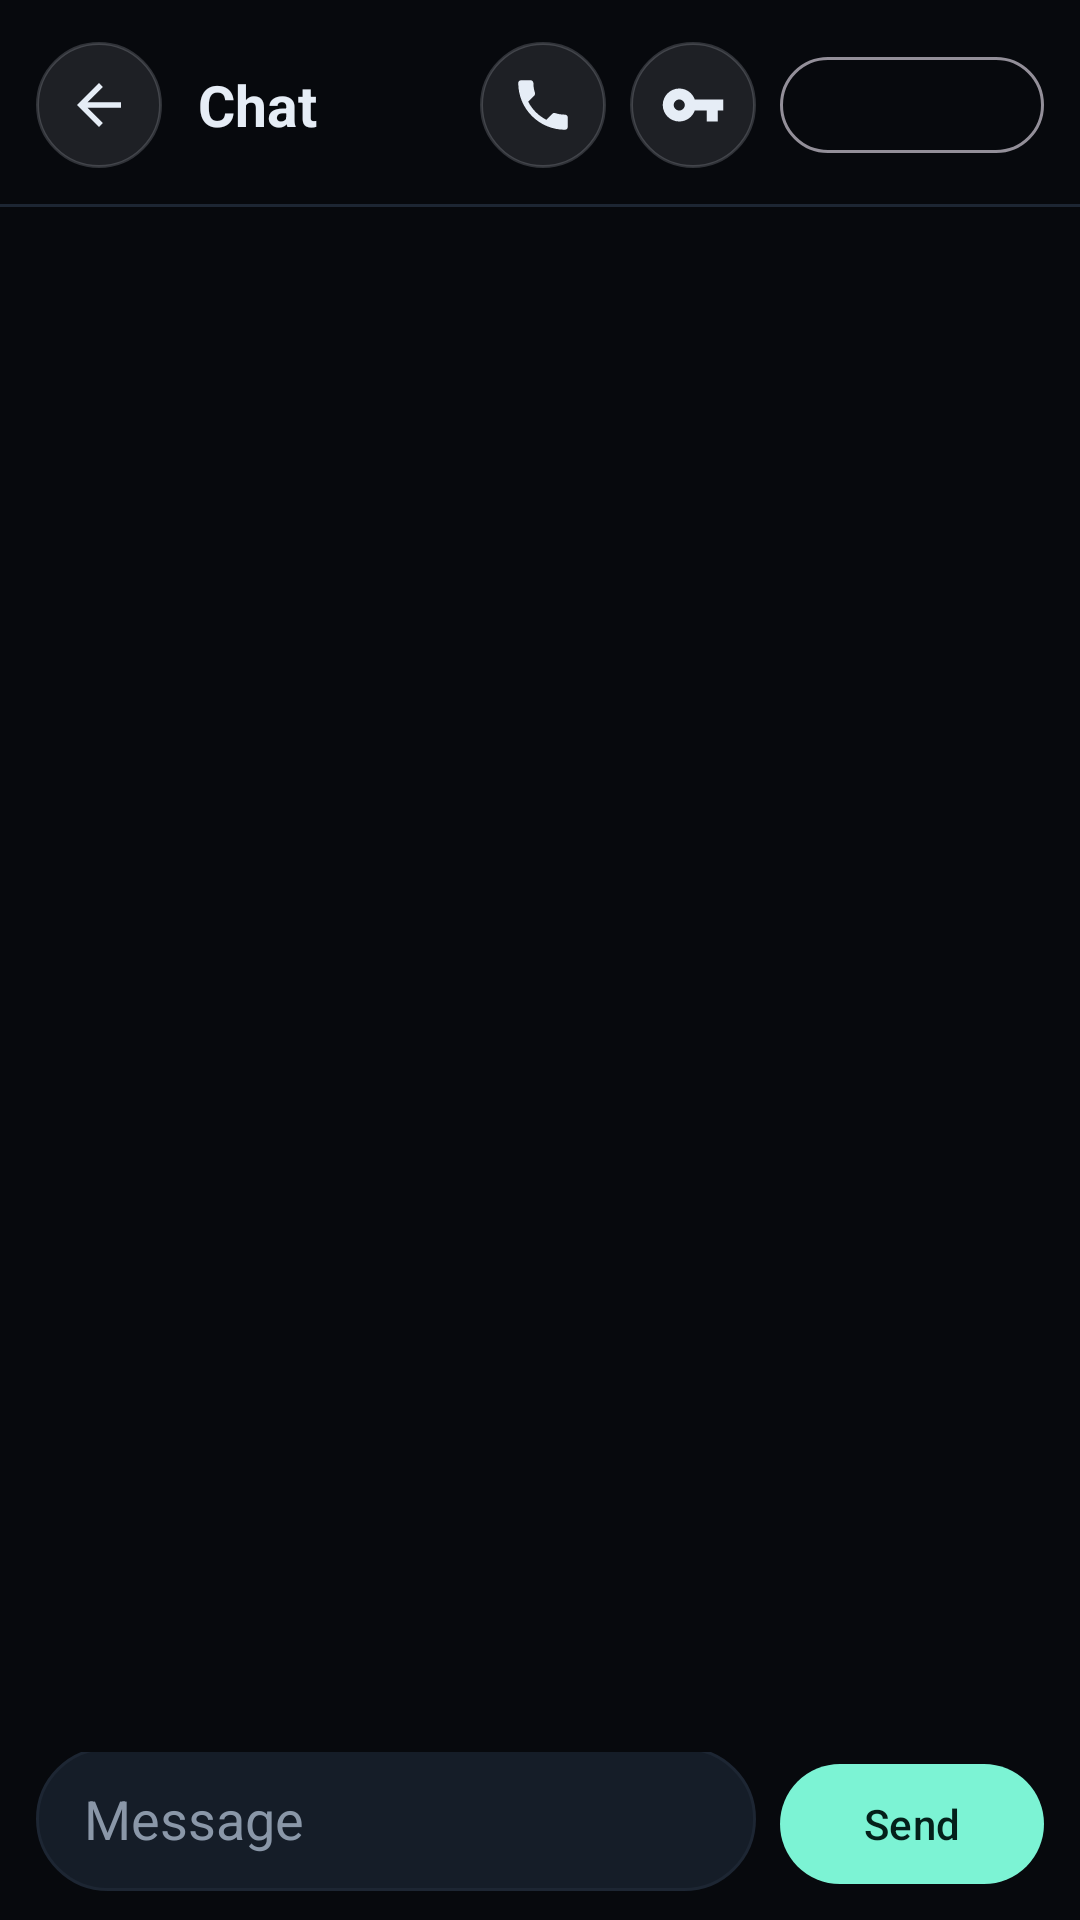

Named icons in this screenshot (1080w x 1920h) and their centers, point (x, y):
Back: point (99, 105)
Keys: point (693, 105)
Voice call: point (543, 105)
